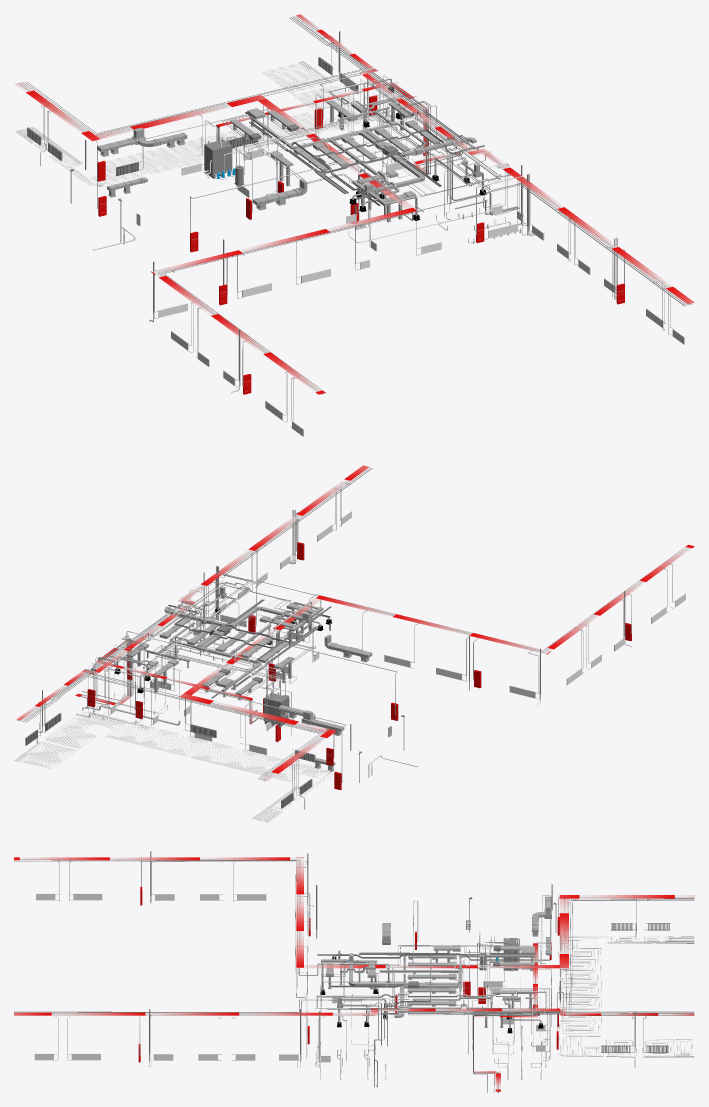
The model's file is jdtyg.gltf.
The picture shows the model from 3 angles, top to bottom: view 1: azimuth 30°, elevation 25°; view 2: azimuth 150°, elevation 25°; view 3: azimuth 270°, elevation 25°; orthographic projection. The views are drawn at different scales.
Visible parts, largest first — view 1: wtg1cjdsg, wtgdcjdfg, wtg1cjdsglx, wtg1cjdxhs, wtgdcjddw; view 2: wtg1cjdsg, wtg1cjdsglx, wtgdcjdfg, wtg1cjdxhs, wtgdcjddw; view 3: wtg1cjdsg, wtg1cjdsglx, wtgdcjdfg, wtg1cjdxhs, wtgdcjddw.
Part boxes in pixels (left/top/right/bottom): wtg1cjdsg: left=15, top=15, right=691, bottom=427; wtgdcjdfg: left=97, top=84, right=486, bottom=222; wtg1cjdsglx: left=14, top=14, right=694, bottom=394; wtg1cjdxhs: left=27, top=57, right=684, bottom=436; wtgdcjddw: left=245, top=112, right=484, bottom=214; wtg1cjdsg: left=14, top=467, right=689, bottom=822; wtg1cjdsglx: left=16, top=465, right=694, bottom=781; wtgdcjdfg: left=90, top=586, right=372, bottom=772; wtg1cjdxhs: left=25, top=511, right=685, bottom=808; wtgdcjddw: left=168, top=599, right=331, bottom=698; wtg1cjdsg: left=14, top=851, right=694, bottom=1092; wtg1cjdsglx: left=14, top=857, right=694, bottom=1091; wtgdcjdfg: left=320, top=896, right=551, bottom=1033; wtg1cjdxhs: left=34, top=886, right=670, bottom=1062; wtgdcjddw: left=317, top=950, right=550, bottom=1020.
Bounding box in the file's own units: 43.91 × 8.08 × 69.81.
Materials: 14 (2 with a texture image).
